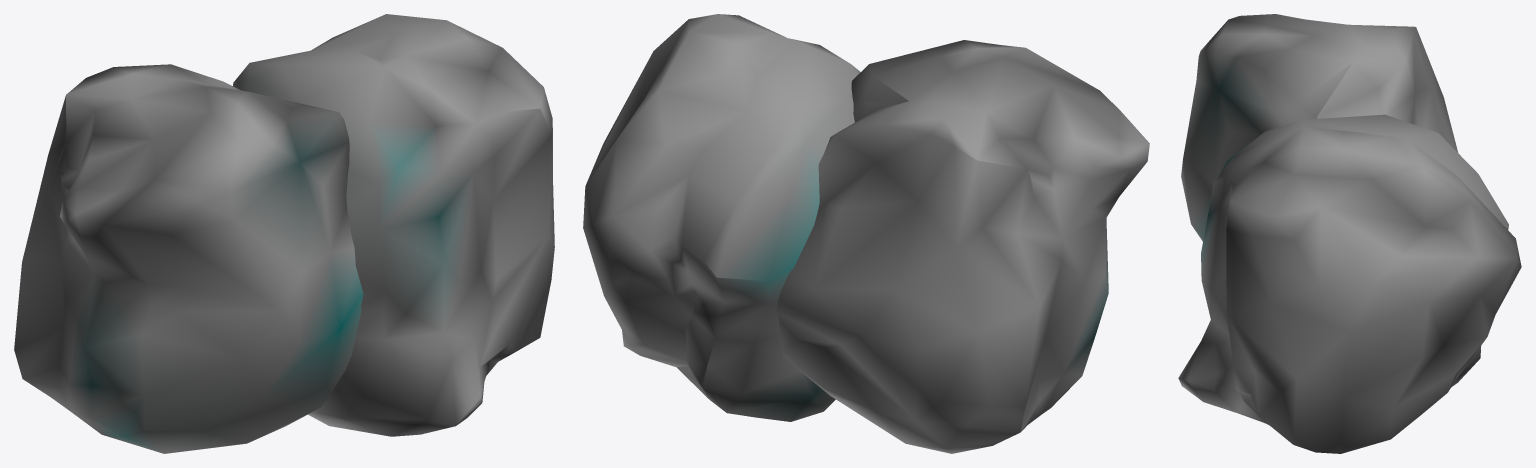
Rendered from SM_ENV_LKNVLD_RockMiddle_B_Lod4.gltf.
The picture shows the model from 3 angles, left to right: view 1: azimuth 30°, elevation 25°; view 2: azimuth 150°, elevation 25°; view 3: azimuth 270°, elevation 25°; orthographic projection. The views are drawn at different scales.
Visible parts, largest first — view 1: SM_ENV_LKNVLD_RockMiddle_B_Lod4; view 2: SM_ENV_LKNVLD_RockMiddle_B_Lod4; view 3: SM_ENV_LKNVLD_RockMiddle_B_Lod4.
Boxes of the visible parts, x1,y1,x2,y2 form: SM_ENV_LKNVLD_RockMiddle_B_Lod4: (14,14,554,453); SM_ENV_LKNVLD_RockMiddle_B_Lod4: (583,14,1149,453); SM_ENV_LKNVLD_RockMiddle_B_Lod4: (1178,14,1521,453).
Bounding box in the file's own units: 5.91 × 4.19 × 4.01.
